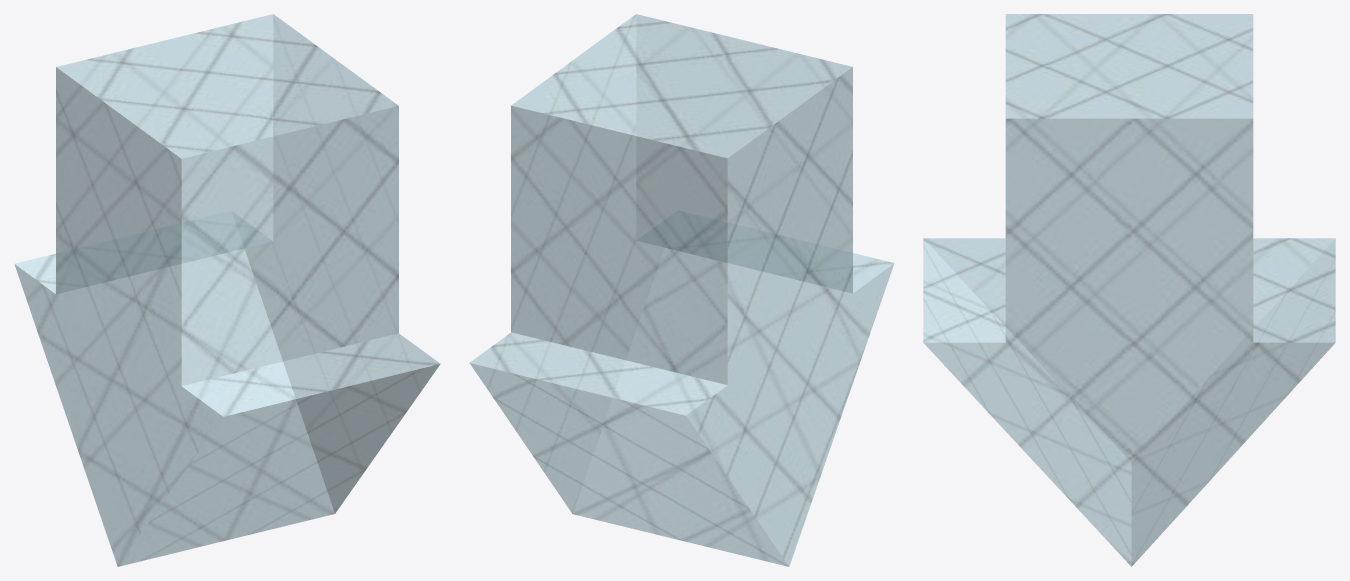
Rendered from ArrowW.FBX.
3 views of the same model, side by side, from view 1: azimuth 30°, elevation 25°; view 2: azimuth 150°, elevation 25°; view 3: azimuth 270°, elevation 25° (orthographic).
Parts seen in each view (by area): view 1: Layer0_001; view 2: Layer0_001; view 3: Layer0_001.
Boxes of the visible parts, box(x1,y1,x2,y2) form: Layer0_001: box(14, 14, 440, 566); Layer0_001: box(469, 14, 894, 566); Layer0_001: box(923, 14, 1335, 566).
Bounding box in the file's own units: 76.2 × 152 × 127.
Materials: 1 (1 with a texture image).
